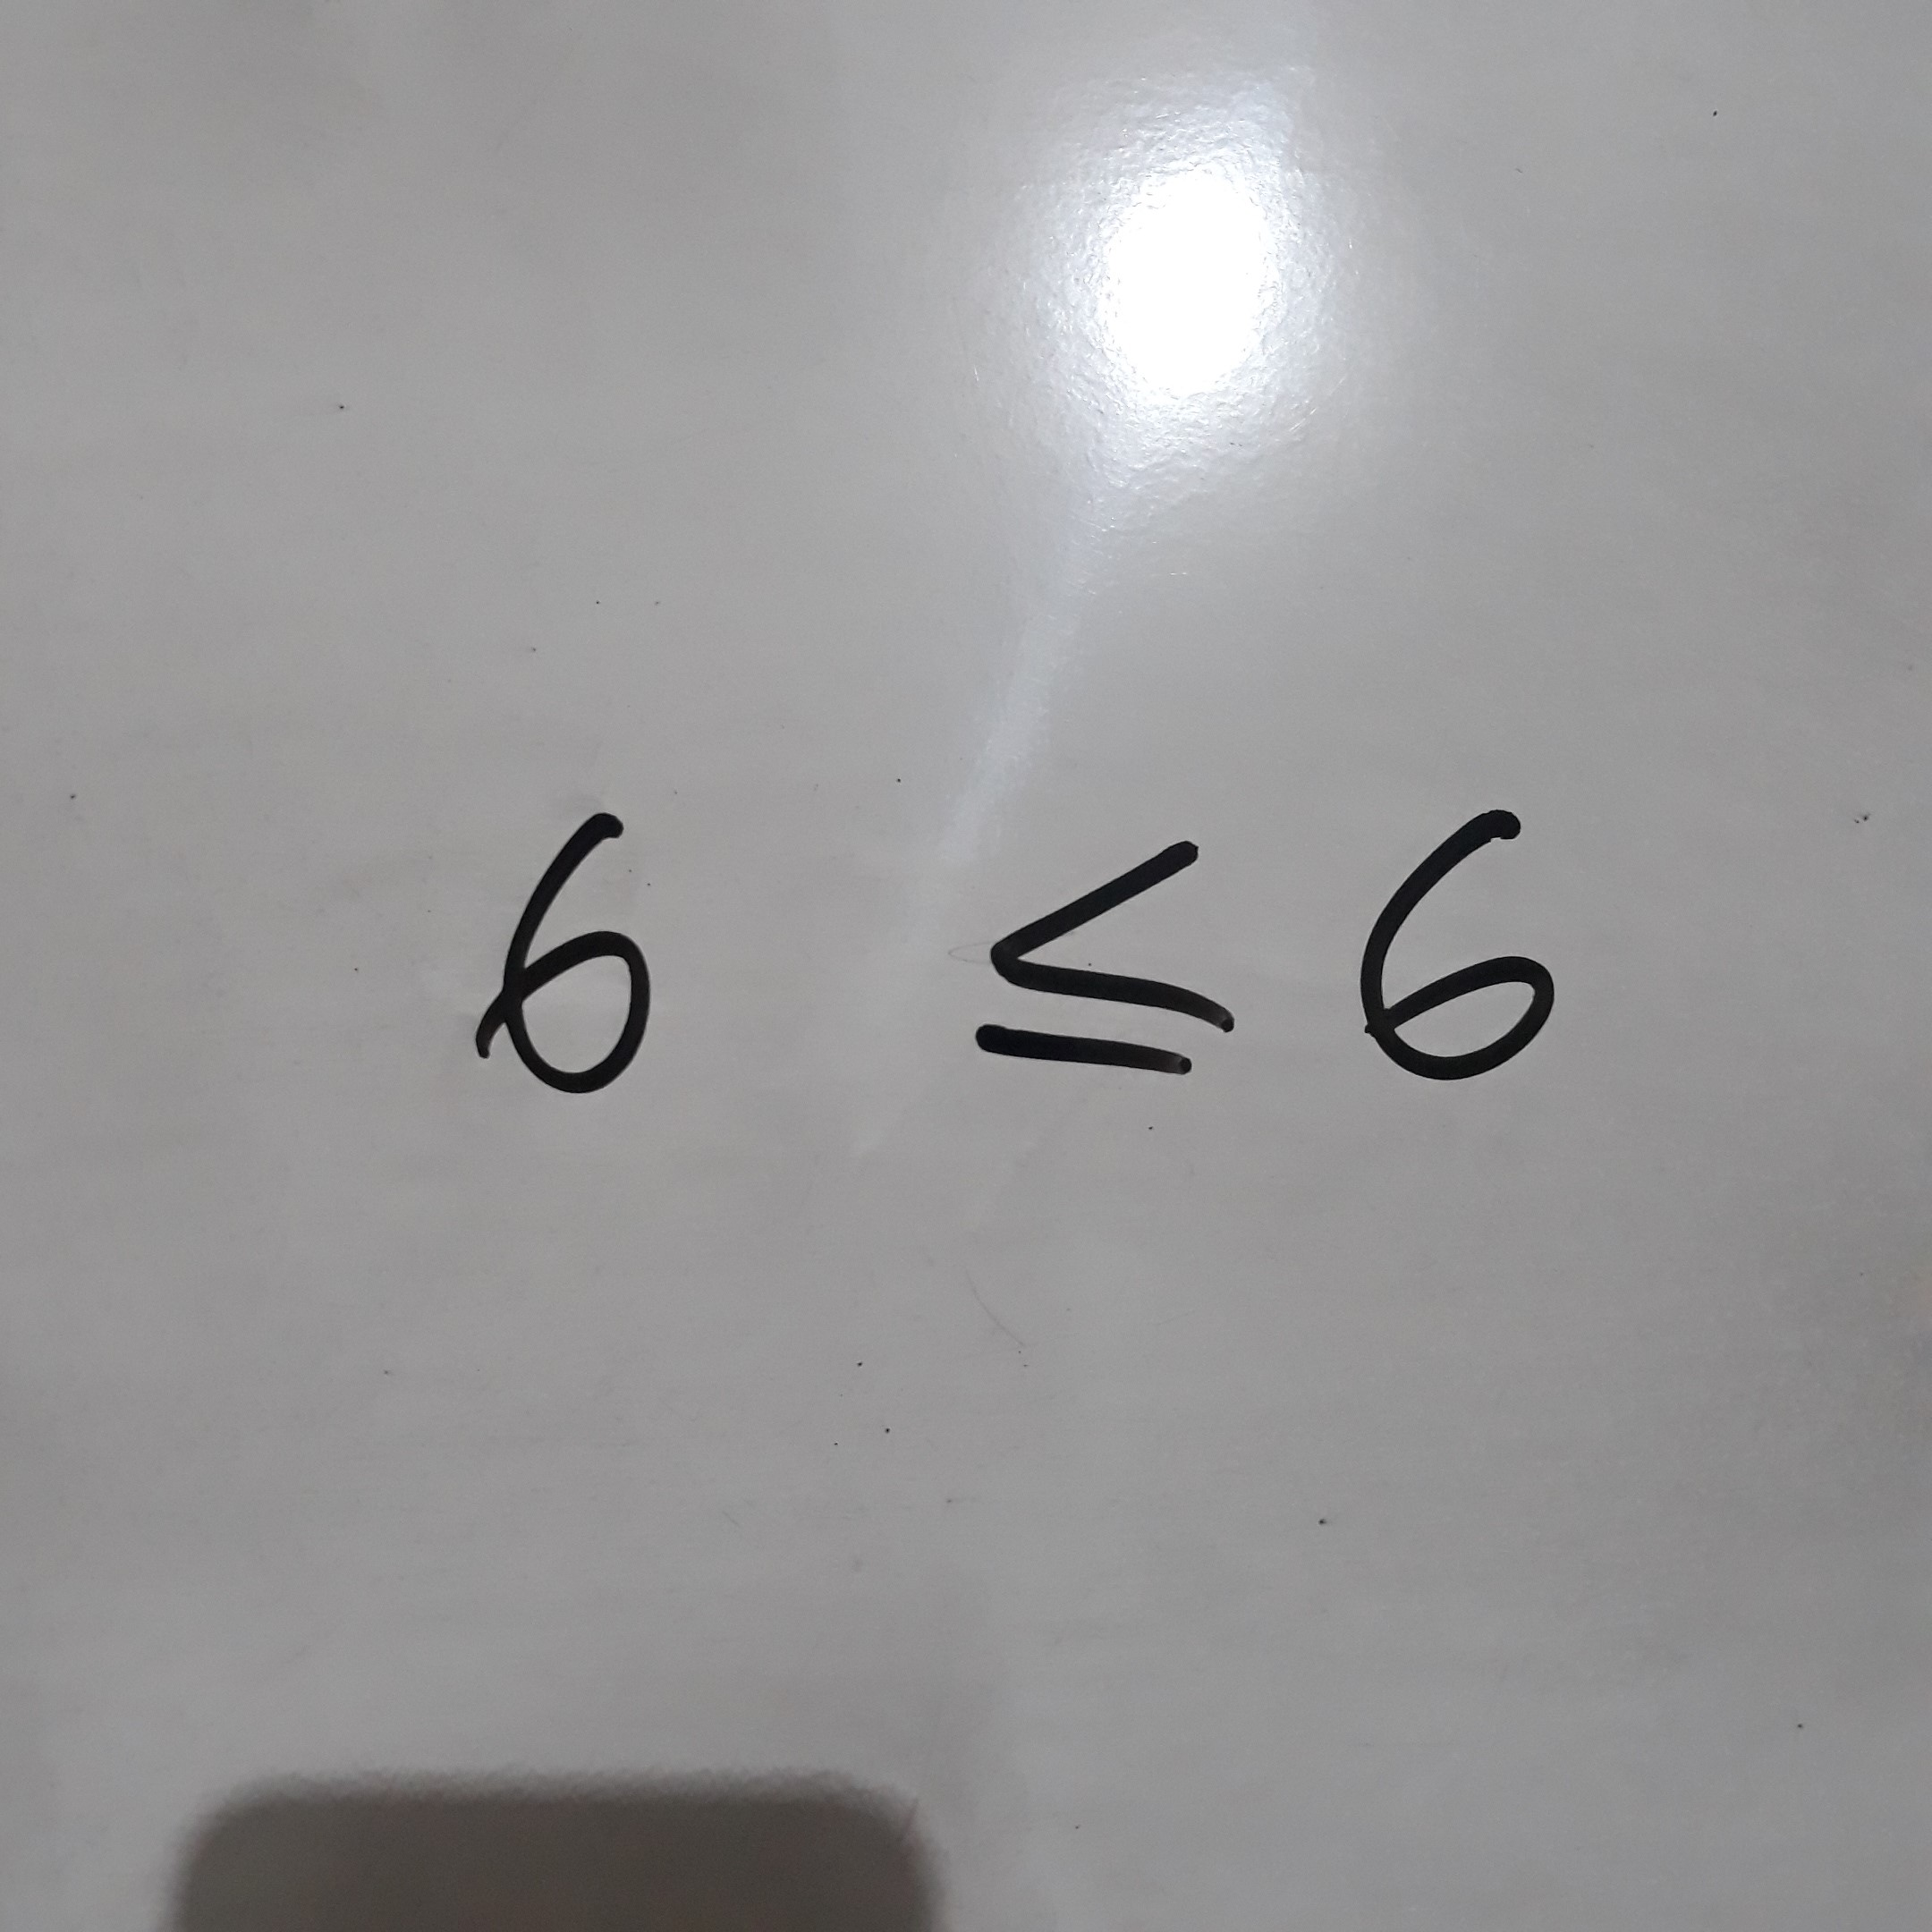lessthan-equal: (956, 772, 1269, 1134)
num6: (1309, 767, 1622, 1129), (442, 770, 698, 1145)
